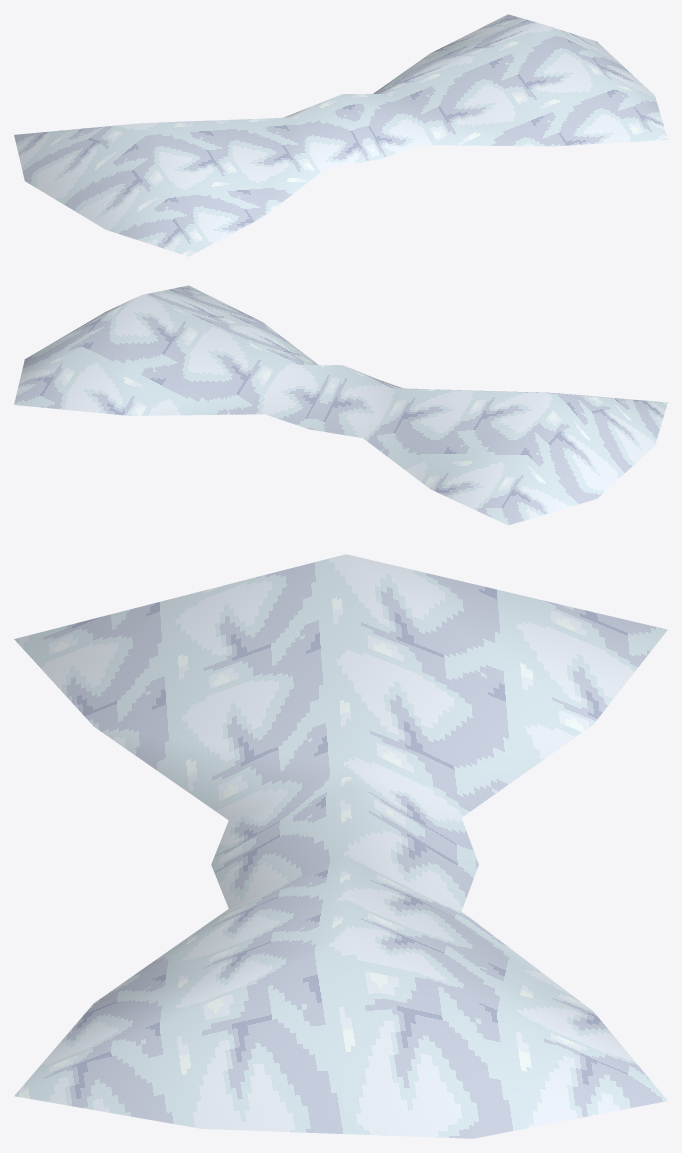
File: 2945head095_c.gltf
3 views of the same model, one above another, from view 1: azimuth 30°, elevation 25°; view 2: azimuth 150°, elevation 25°; view 3: azimuth 270°, elevation 25° (orthographic). The views are drawn at different scales.
Parts seen in each view (by area): view 1: 2945head095_c; view 2: 2945head095_c; view 3: 2945head095_c.
Boxes of the visible parts, x1=… form: 2945head095_c: x1=14, y1=14, x2=667, y2=256; 2945head095_c: x1=14, y1=285, x2=667, y2=525; 2945head095_c: x1=14, y1=554, x2=667, y2=1138.
Bounding box in the file's own units: 0.8569 × 0.0891 × 0.4341.
1 material, 1 textured.
